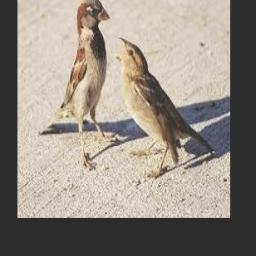Sparrow: (116, 36, 214, 179), (42, 0, 117, 171)
